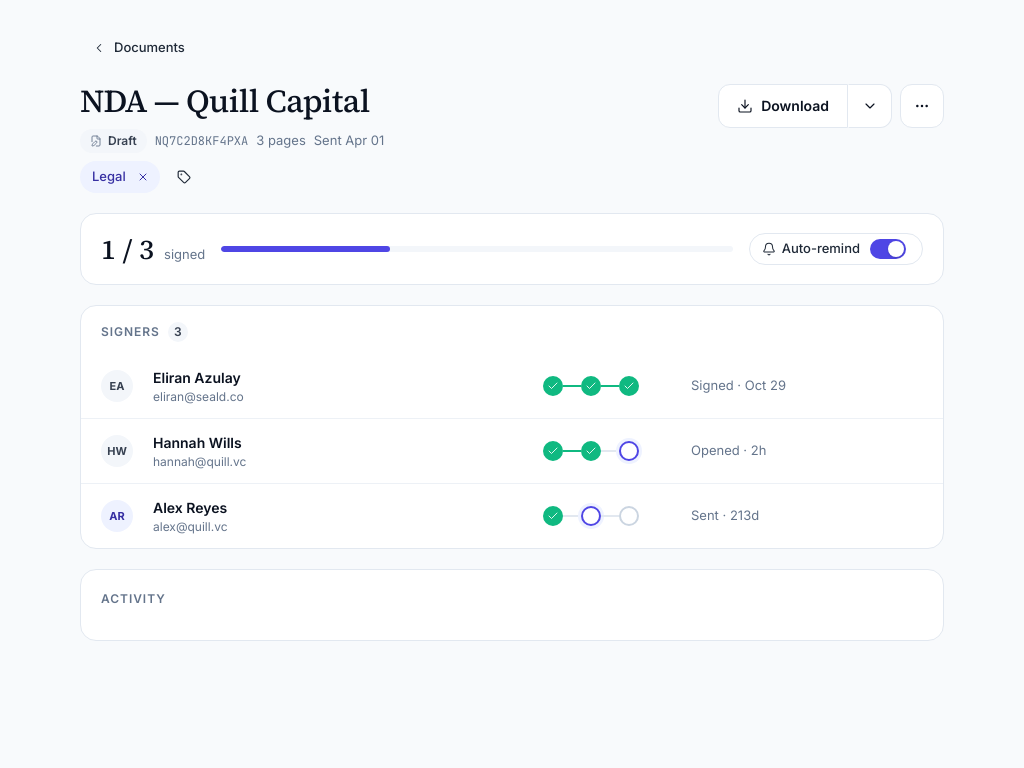
Test: EnvelopeDetailPage › withdraw › a failing draft delete keeps the page and toasts
Expected: the heading "NDA — Quill Capital" is shown, [80,79,370,123]
What coordinates should you click on to do the following:
click the button named "More"
I would click on:
 (922, 106)
Its box is [900,84,944,128].
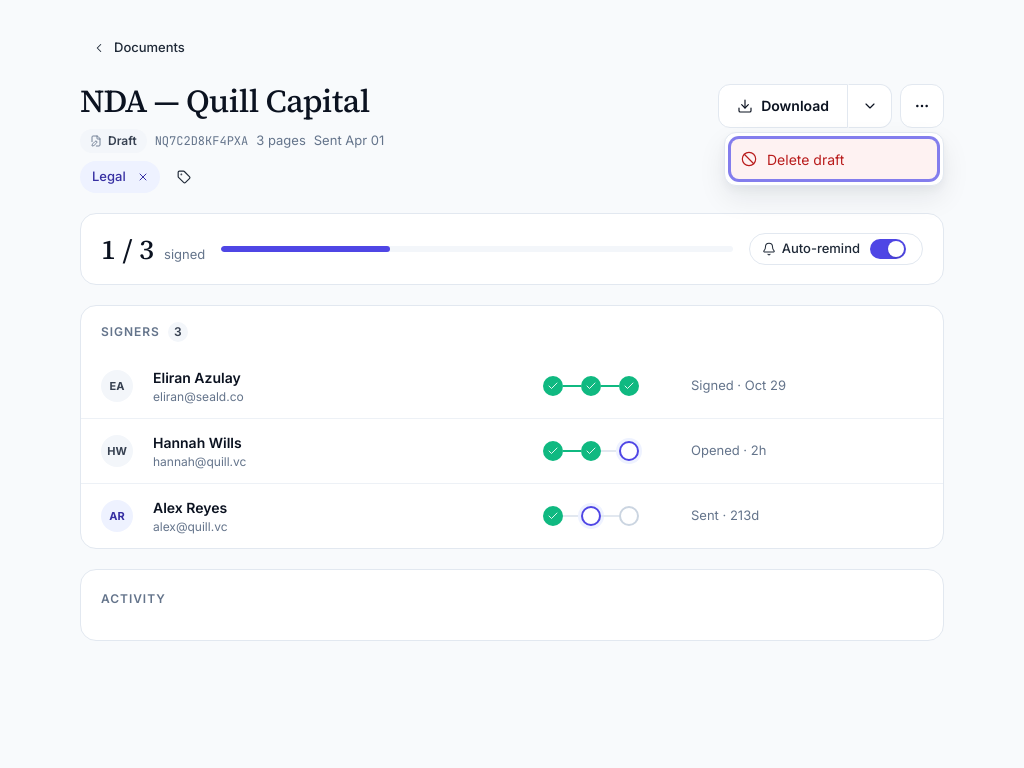
What coordinates should you click on to do the following:
click the menu item "Delete draft"
I would click on:
 (834, 159)
Its box is [731,139,937,179].
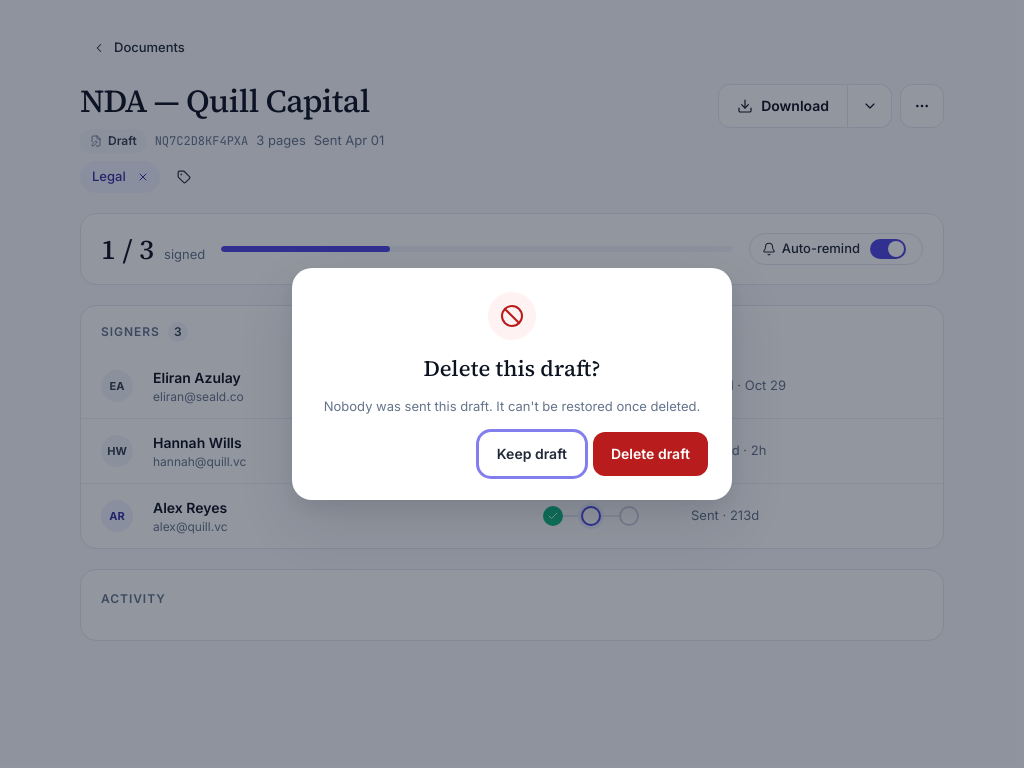
What coordinates should you click on to do the following:
click the button "Delete draft"
I would click on:
 (650, 454)
Its box is [593,432,708,476].
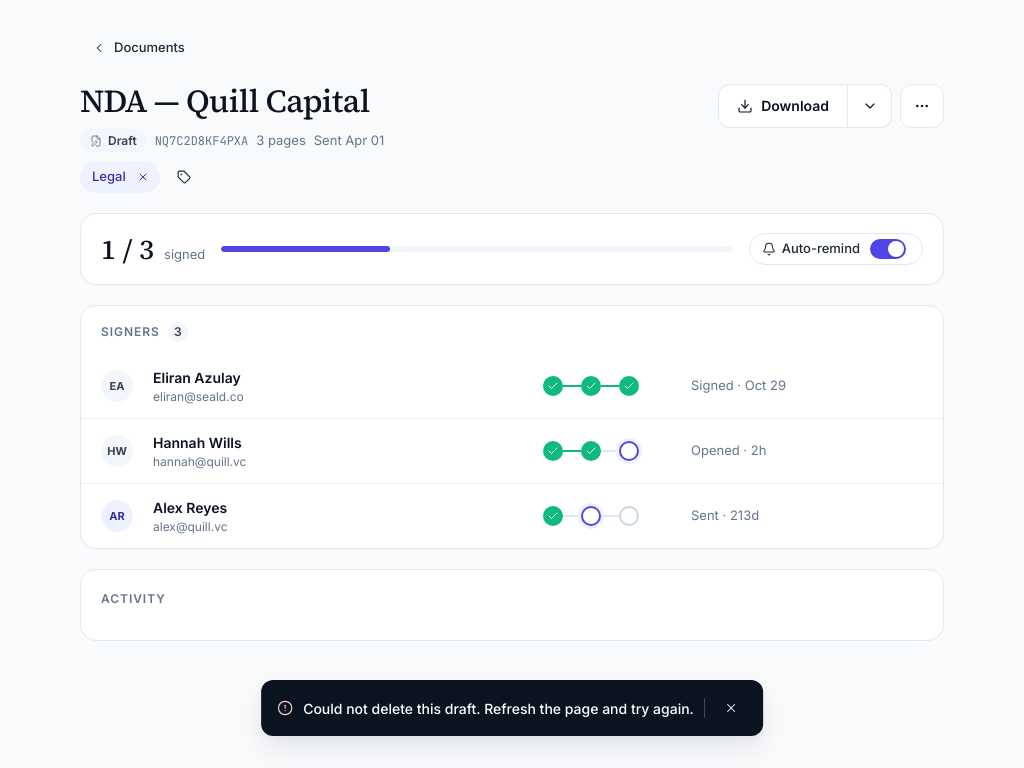
Result: the message reads "Could not delete this draft. Refresh the page and try again." at [303,700,694,716]
